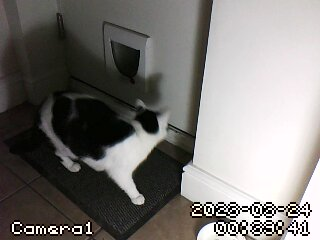bad: (27, 89, 172, 209)
